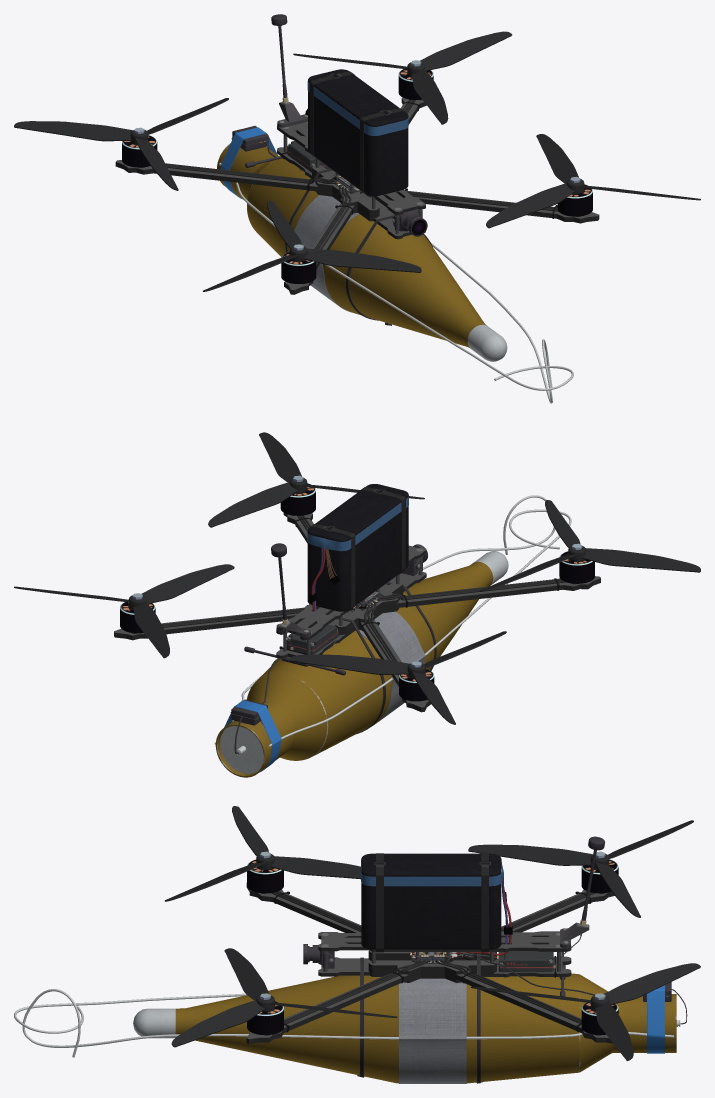
The model's file is combat__fpv_drone.glb.
3 views of the same model, one above another, from view 1: azimuth 30°, elevation 25°; view 2: azimuth 150°, elevation 25°; view 3: azimuth 270°, elevation 25° (orthographic). The views are drawn at different scales.
Parts seen in each view (by area): view 1: MORKOVKA, batt_low, frame_low, vint_br_low, vint_fr_low, vint_bl_low, vint_fl_low, PROVOLOKA_R, MORKOVKA_PJEZA, izolenta_low, PROVOD4_low, PROVOLOKA_L (+3 smaller); view 2: MORKOVKA, batt_low, frame_low, vint_br_low, vint_fr_low, vint_bl_low, vint_fl_low, PROVOLOKA_R, izolenta_low, IZOLENTA, PROVOD2_low, rotor_korpus_fr_low (+8 smaller); view 3: MORKOVKA, batt_low, frame_low, vint_bl_low, vint_fl_low, vint_br_low, vint_fr_low, PROVOLOKA_L, izolenta_low, IZOLENTA, VTX_low, MORKOVKA_PJEZA (+12 smaller).
Boxes of the visible parts, bbox=[...] form: MORKOVKA: bbox=[217, 143, 486, 347]; batt_low: bbox=[308, 69, 408, 196]; frame_low: bbox=[115, 97, 599, 294]; vint_br_low: bbox=[14, 98, 228, 190]; vint_fr_low: bbox=[203, 201, 421, 291]; vint_bl_low: bbox=[293, 31, 512, 124]; vint_fl_low: bbox=[486, 134, 700, 228]; PROVOLOKA_R: bbox=[219, 163, 573, 390]; MORKOVKA_PJEZA: bbox=[467, 324, 507, 361]; izolenta_low: bbox=[307, 81, 408, 135]; PROVOD4_low: bbox=[165, 163, 338, 184]; PROVOLOKA_L: bbox=[430, 242, 552, 403]; MORKOVKA: bbox=[215, 561, 493, 777]; batt_low: bbox=[307, 484, 408, 611]; frame_low: bbox=[114, 513, 600, 712]; vint_br_low: bbox=[290, 631, 506, 724]; vint_fr_low: bbox=[480, 500, 700, 591]; vint_bl_low: bbox=[14, 564, 234, 658]; vint_fl_low: bbox=[208, 432, 424, 527]; PROVOLOKA_R: bbox=[268, 509, 571, 747]; izolenta_low: bbox=[307, 495, 408, 551]; IZOLENTA: bbox=[224, 700, 281, 772]; PROVOD2_low: bbox=[376, 579, 565, 600]; rotor_korpus_fr_low: bbox=[559, 551, 594, 583]; MORKOVKA: bbox=[175, 973, 676, 1083]; batt_low: bbox=[361, 853, 501, 949]; frame_low: bbox=[246, 882, 614, 1043]; vint_bl_low: bbox=[471, 963, 700, 1060]; vint_fl_low: bbox=[171, 948, 397, 1047]; vint_br_low: bbox=[468, 820, 693, 917]; vint_fr_low: bbox=[164, 806, 360, 901]; PROVOLOKA_L: bbox=[22, 989, 674, 1057]; izolenta_low: bbox=[361, 859, 503, 886]; IZOLENTA: bbox=[647, 985, 664, 1053]; VTX_low: bbox=[498, 951, 553, 972]; MORKOVKA_PJEZA: bbox=[133, 1008, 175, 1038].
Bounding box in the file's own units: 0.5565 × 0.2505 × 0.6374.
Materials: 2 (2 with a texture image).
